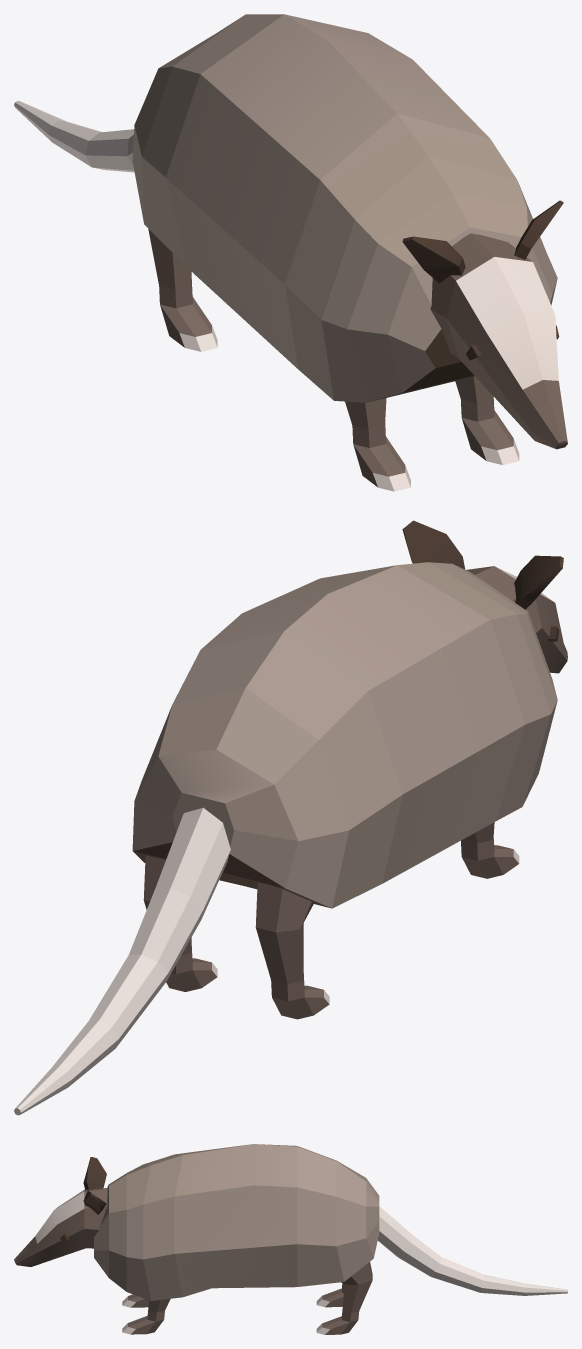
The model's file is animals-armadillo-005.glb.
The picture shows the model from 3 angles, top to bottom: view 1: azimuth 30°, elevation 25°; view 2: azimuth 150°, elevation 25°; view 3: azimuth 270°, elevation 25°; orthographic projection. The views are drawn at different scales.
Parts seen in each view (by area): view 1: Geo_Armadillo; view 2: Geo_Armadillo; view 3: Geo_Armadillo.
Boxes of the visible parts, x1=… form: Geo_Armadillo: x1=14, y1=14, x2=567, y2=491; Geo_Armadillo: x1=14, y1=520, x2=567, y2=1115; Geo_Armadillo: x1=14, y1=1144, x2=567, y2=1334.
Bounding box in the file's own units: 30.95 × 41.98 × 122.
Materials: 1 (1 with a texture image).
